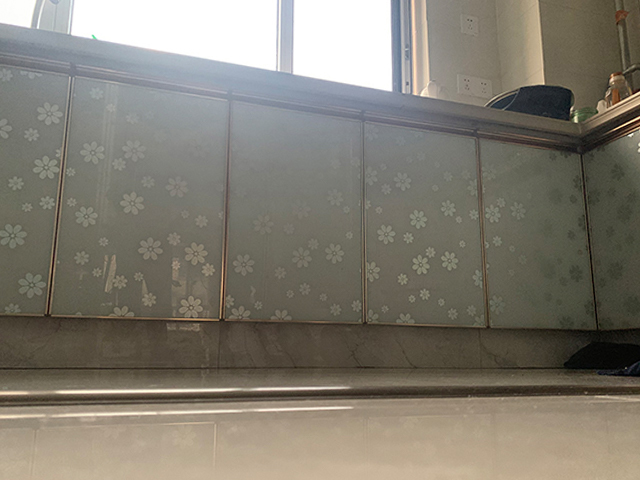cabinet: (1, 45, 587, 371)
